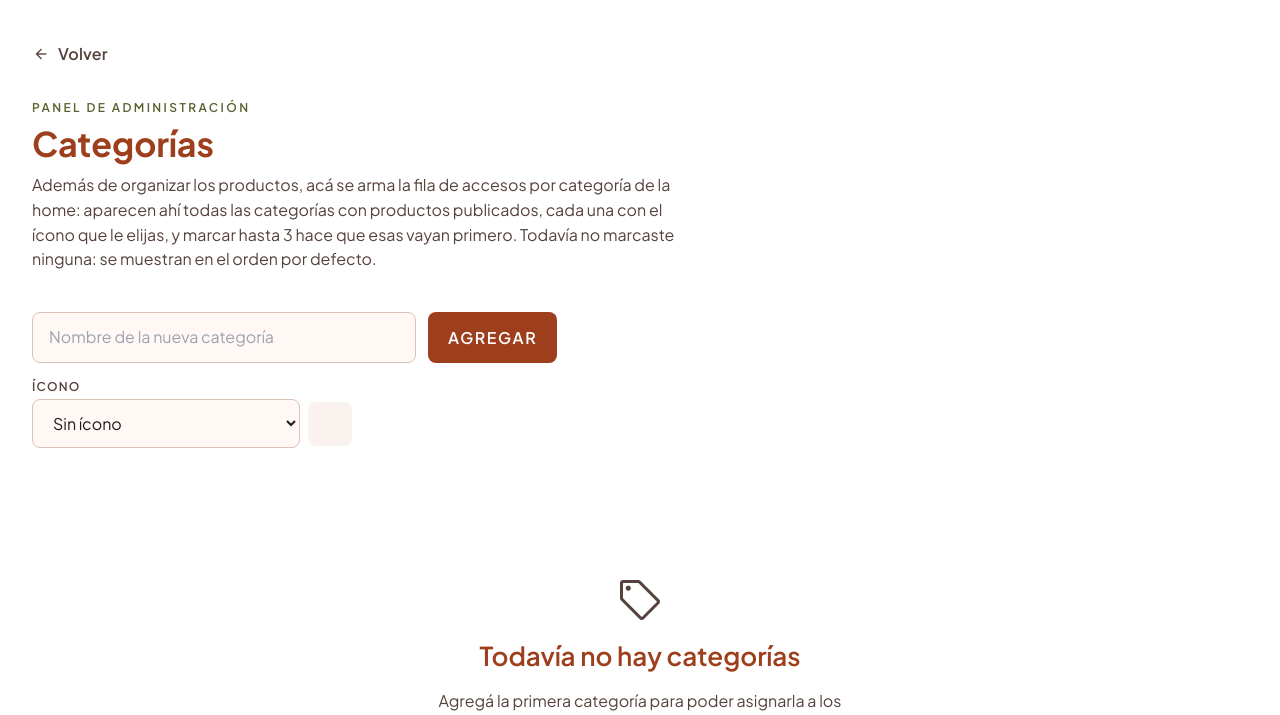
Test case: AdminCategorias — el error de carga y el estado vacío son excluyentes › el error de una MUTACIÓN no tapa el estado vacío: la lista sí se pudo leer
Expected: the heading "Todavía no hay categorías" is shown, x1=479 y1=640 x2=801 y2=673
Type "Hogar" into the field with placeholder "Nombre de la nueva categoría" at point(224, 338), box x1=32 y1=312 x2=416 y2=363
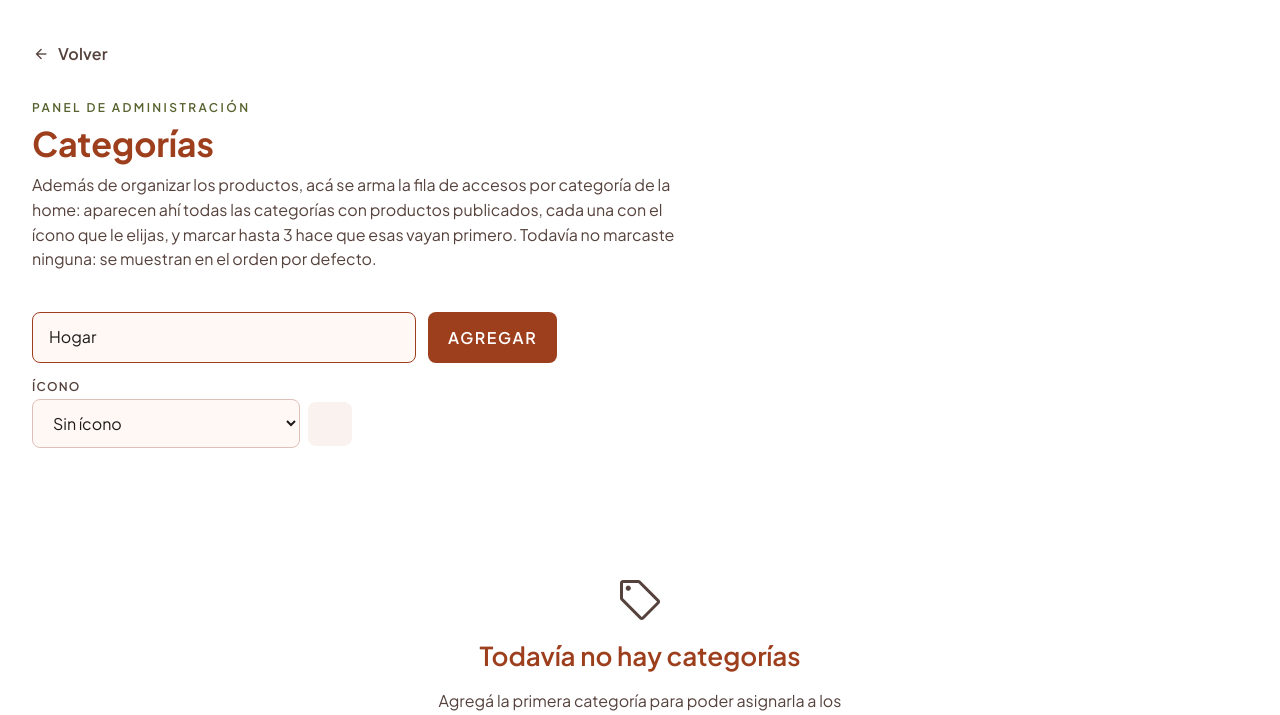
Click the button "Agregar" at point(493, 338), box x1=428 y1=312 x2=557 y2=363
(page scrolled)
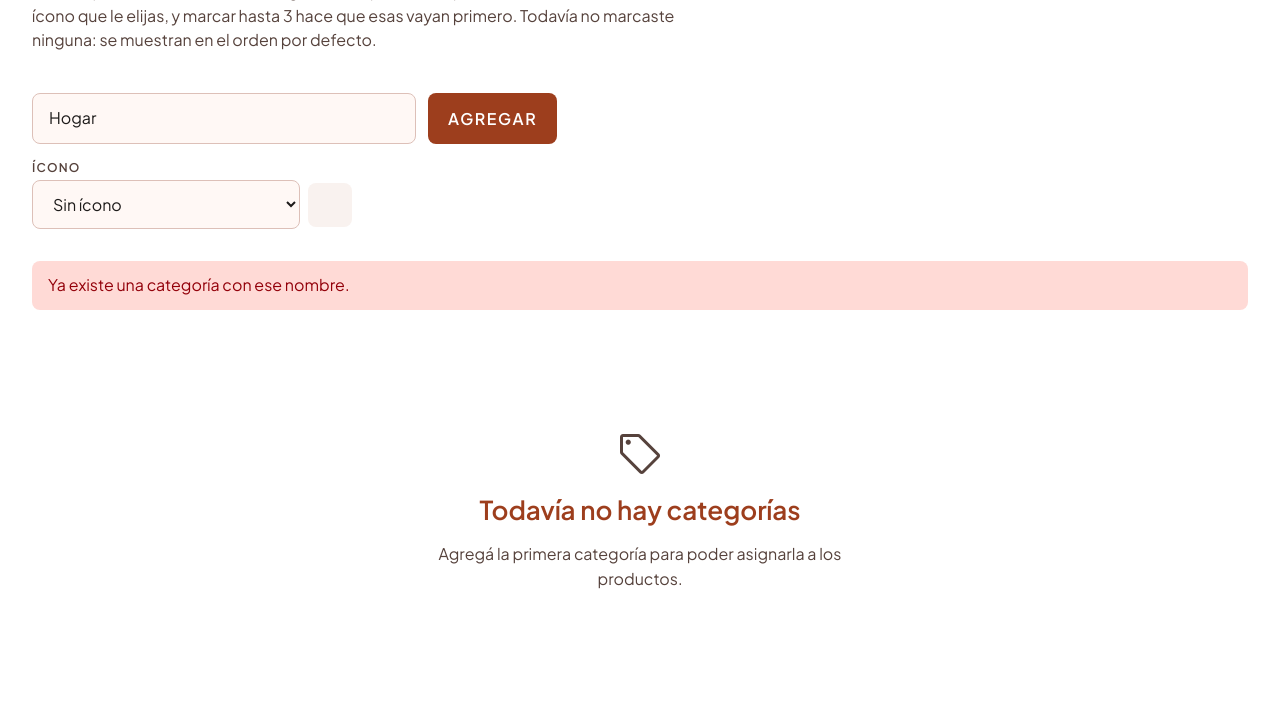
Expected: the heading "Todavía no hay categorías" is shown, x1=479 y1=494 x2=801 y2=526
Expected: the text "Ya existe una categoría con ese nombre." is shown, x1=32 y1=261 x2=1248 y2=310
